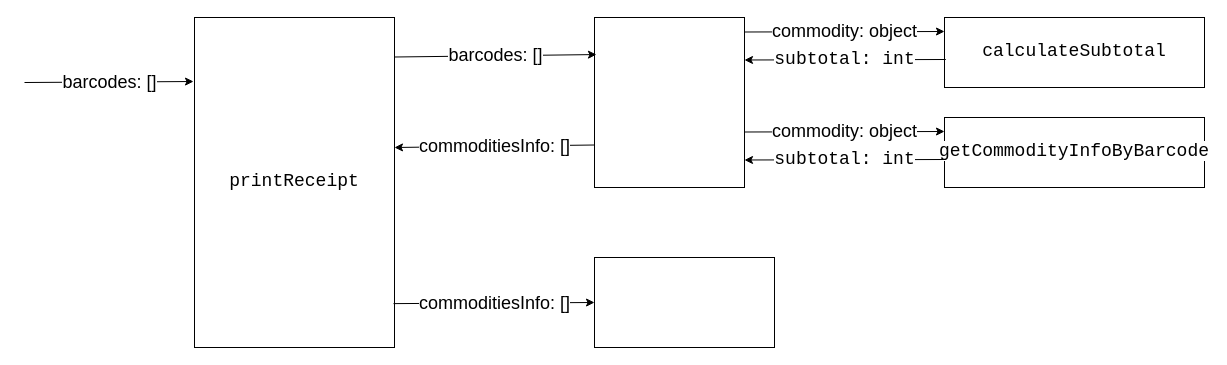
Some shapes in this 1227 by 365 pixel diagram are drawn without their labels. The shapes that lost their labels are listed below. From the top down, each one's centre as x and y in pixels, then its label:
At (669,102): "mapTheBarcodes".
At (684,302): "printTheOutput".
